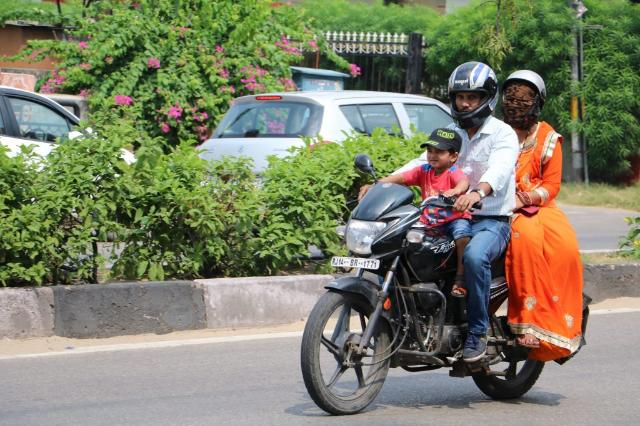licensePlate: (330, 252, 383, 274)
motorcycle: (298, 56, 593, 417)
withHelmet: (448, 61, 499, 121), (500, 72, 547, 126)
withoutHelmet: (422, 131, 467, 167)
